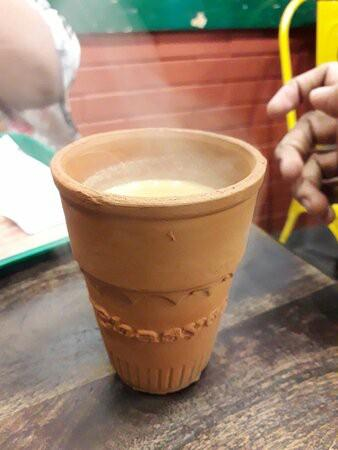Chai: (100, 178, 216, 198)
